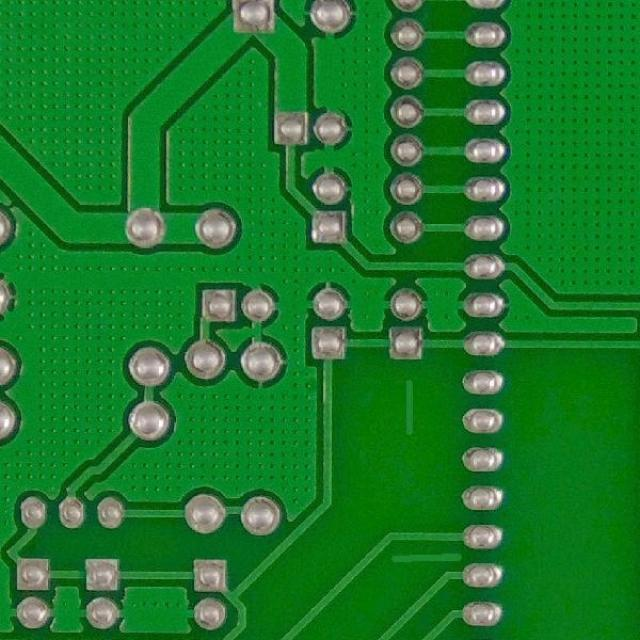spurious_copper: (384, 544, 474, 579), (394, 372, 428, 447)
